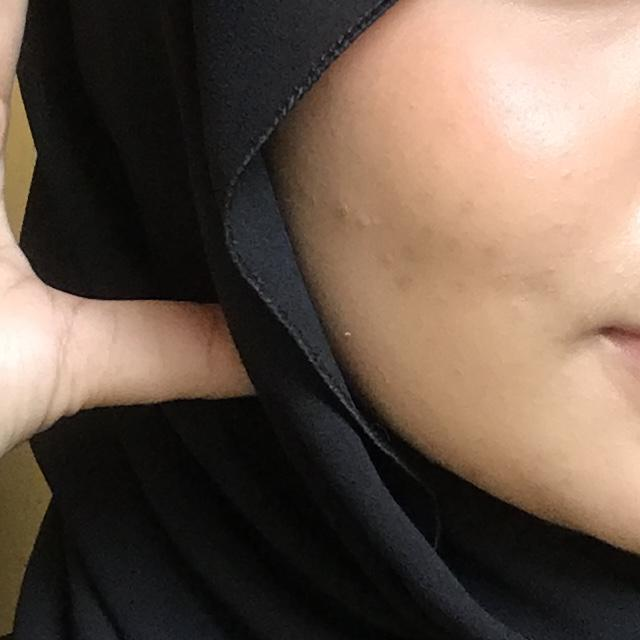mendengar: (0, 0, 375, 626)
